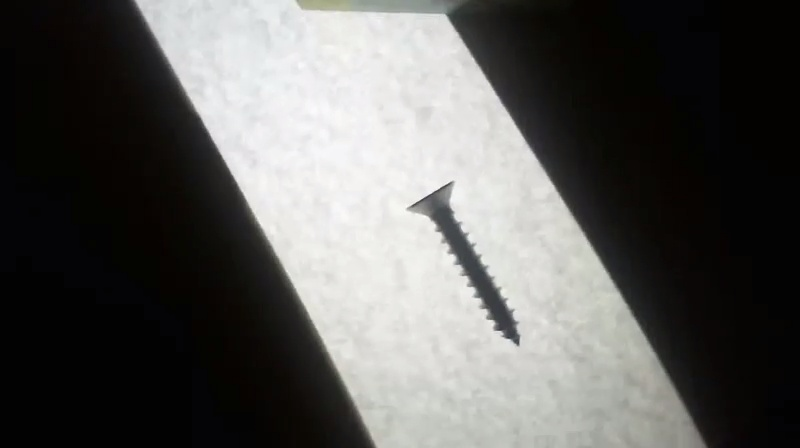S001: (401, 177, 529, 347)
